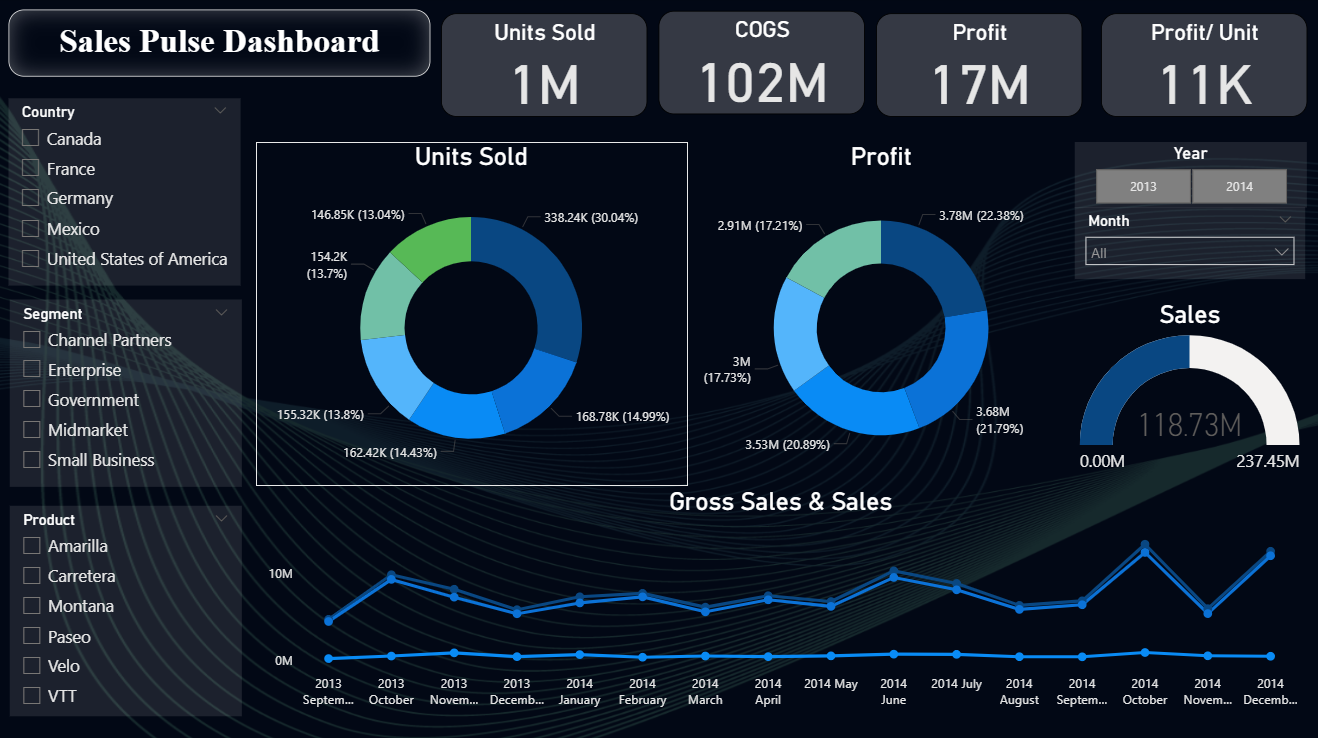

Layout of this report page (visuals, bound fields, positions):
{"tool":"powerbi","page":{"name":"Page 1","canvas":[1280,720],"ordinal":0},"visuals":[{"type":"textbox","box":[12.3,12.3,407.5,64.5],"z":0},{"type":"card","title":"Profit","fields":{"Values":["Sum(financials.Profit)"]},"box":[849.4,15.1,199,100.2],"z":1000},{"type":"slicer","fields":{"Values":["financials.Month Name"]},"box":[1041.5,203.1,222.3,70],"z":2000},{"type":"slicer","fields":{"Values":["financials.Country"]},"box":[12.3,97.4,223.7,181.1],"z":3000},{"type":"card","title":"Profit/ Unit","fields":{"Values":["Sum(financials.Profit per Unit)"]},"box":[1066.2,15.1,199,100.2],"z":4000},{"type":"card","title":"Units Sold","fields":{"Values":["Sum(financials.Units Sold)"]},"box":[429.5,15.1,199,100.2],"z":5000},{"type":"slicer","fields":{"Values":["financials.Segment"]},"box":[13.7,292.3,223.7,181.1],"z":6000},{"type":"lineChart","title":"Gross Sales & Sales","fields":{"Y":["Sum(financials.Gross Sales)","Sum(financials. Sales)","Sum(financials.Discounts)"],"Category":["financials.Date.Variation.Date Hierarchy.Year","financials.Date.Variation.Date Hierarchy.Month"]},"box":[251.1,473.4,1012.7,220.9],"z":7000},{"type":"slicer","title":"Year","fields":{"Values":["financials.Date.Variation.Date Hierarchy.Year"]},"box":[1041.5,140,223.7,63.1],"z":8000},{"type":"card","title":"COGS","fields":{"Values":["Sum(financials.COGS)"]},"box":[639.5,13.7,199,100.2],"z":9000},{"type":"slicer","title":"Products","fields":{"Values":["financials.Product"]},"box":[13.7,491.3,223.7,203.1],"z":9001},{"type":"gauge","title":"Sales","fields":{"Y":["Sum(financials. Sales)"]},"box":[1041.5,292.3,222.3,179.8],"z":9002},{"type":"donutChart","title":"Profit","fields":{"Category":["financials.Country"],"Y":["Sum(financials.Profit)"]},"box":[666.9,140,374.6,332.1],"z":9003},{"type":"donutChart","title":"Units Sold","fields":{"Category":["financials.Product"],"Y":["Sum(financials.Units Sold)"]},"box":[251.1,140,415.8,332.1],"z":9005}]}

Visuals, with their boxes in screenshot pixels (x1, y1, x2, y2), scaled from the page's 1280x720 canvas onto the 1318x738 screenshot:
textbox: select_region(13, 13, 432, 79)
"Profit" card: select_region(875, 15, 1080, 118)
slicer - financials.Month Name: select_region(1072, 208, 1301, 280)
slicer - financials.Country: select_region(13, 100, 243, 285)
"Profit/ Unit" card: select_region(1098, 15, 1303, 118)
"Units Sold" card: select_region(442, 15, 647, 118)
slicer - financials.Segment: select_region(14, 300, 244, 485)
"Gross Sales & Sales" lineChart: select_region(259, 485, 1301, 712)
"Year" slicer: select_region(1072, 144, 1303, 208)
"COGS" card: select_region(658, 14, 863, 117)
"Products" slicer: select_region(14, 504, 244, 712)
"Sales" gauge: select_region(1072, 300, 1301, 484)
"Profit" donutChart: select_region(687, 144, 1072, 484)
"Units Sold" donutChart: select_region(259, 144, 687, 484)
